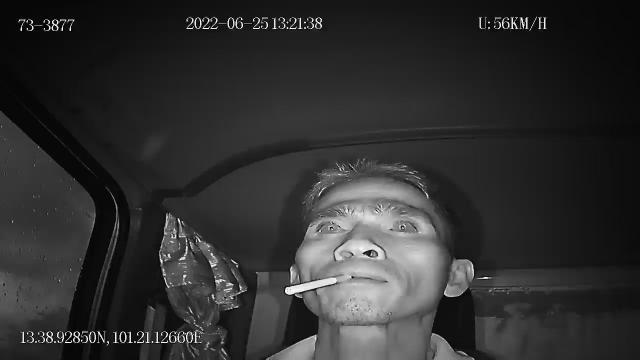SafeDriving: (383, 216, 425, 238), (309, 215, 348, 238)
Smoking: (285, 274, 351, 296)
